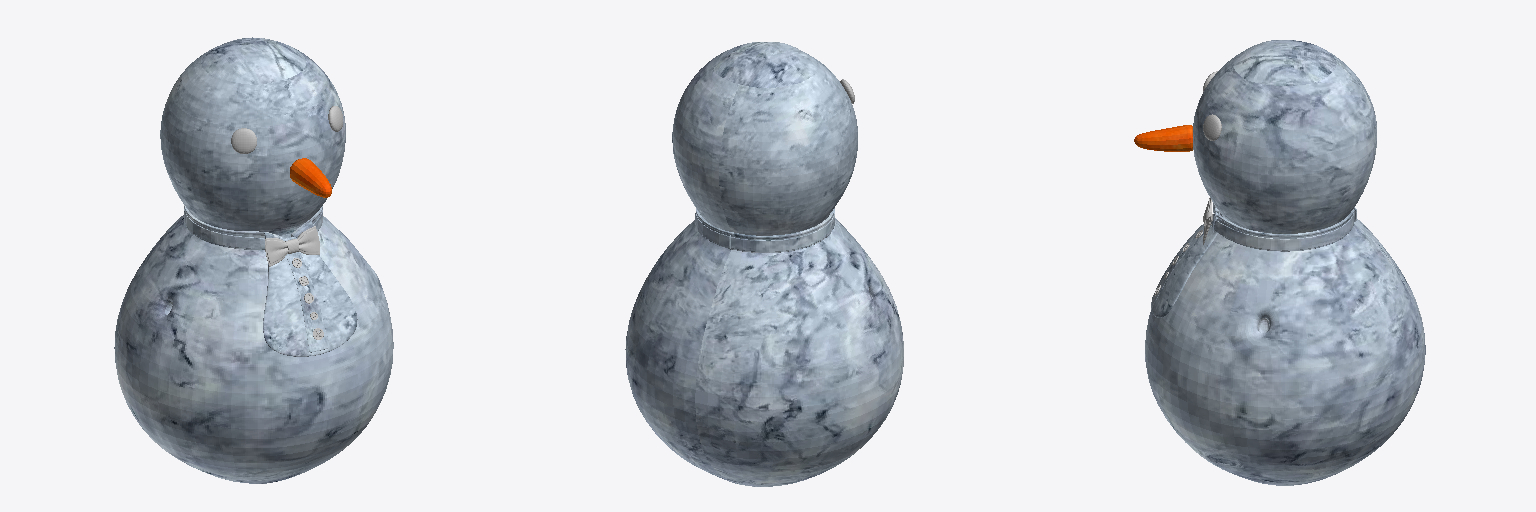
3 renders of one model, left to right at view 1: azimuth 30°, elevation 25°; view 2: azimuth 150°, elevation 25°; view 3: azimuth 270°, elevation 25°, orthographic.
Visible parts, largest first — view 1: body, skirt1, skirt3, skirt2, bowtie, nose, eyes; view 2: body, skirt3; view 3: body, skirt3, skirt1, nose.
Part boxes in pixels (x1,y1,x2,y2): body: (114, 37, 393, 483); skirt1: (263, 237, 357, 356); skirt3: (184, 205, 322, 249); skirt2: (283, 237, 329, 352); bowtie: (265, 226, 319, 266); nose: (290, 158, 331, 197); eyes: (231, 106, 342, 153); body: (625, 42, 903, 486); skirt3: (695, 208, 834, 252); body: (1145, 40, 1425, 485); skirt3: (1211, 203, 1356, 251); skirt1: (1151, 219, 1217, 317); nose: (1134, 125, 1192, 151).
Bounding box in the file's own units: 2.06 × 3.38 × 2.15.
3 materials, 2 textured.